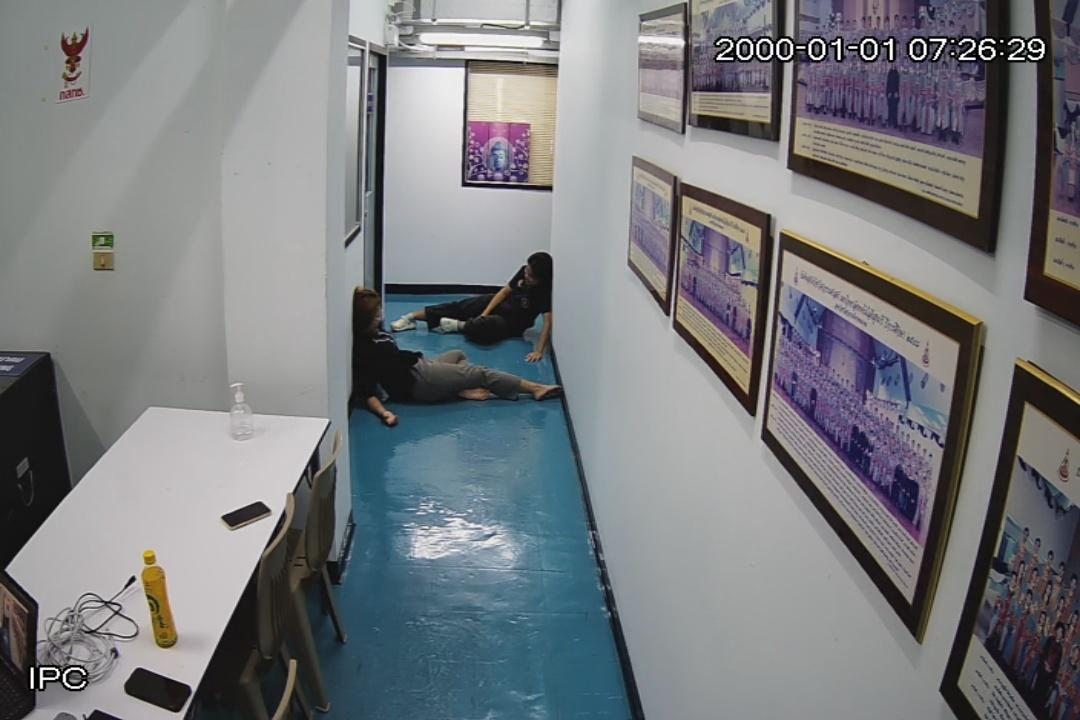fall: (350, 285, 561, 424), (387, 252, 552, 362)
